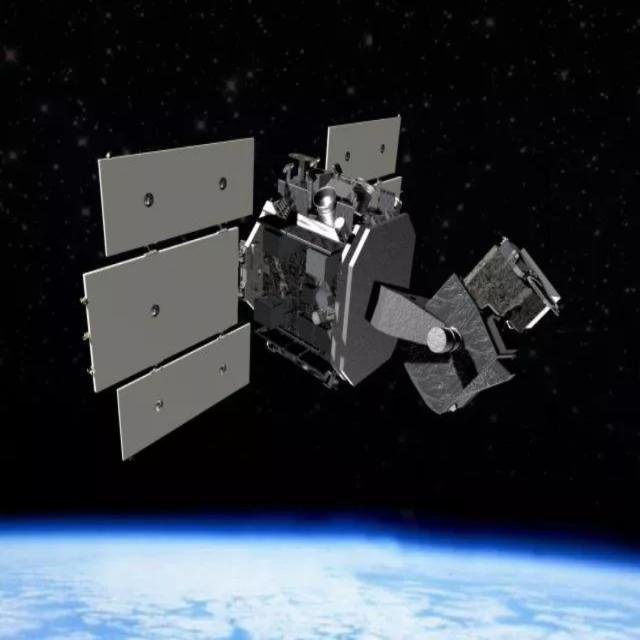sat: (73, 101, 566, 463)
